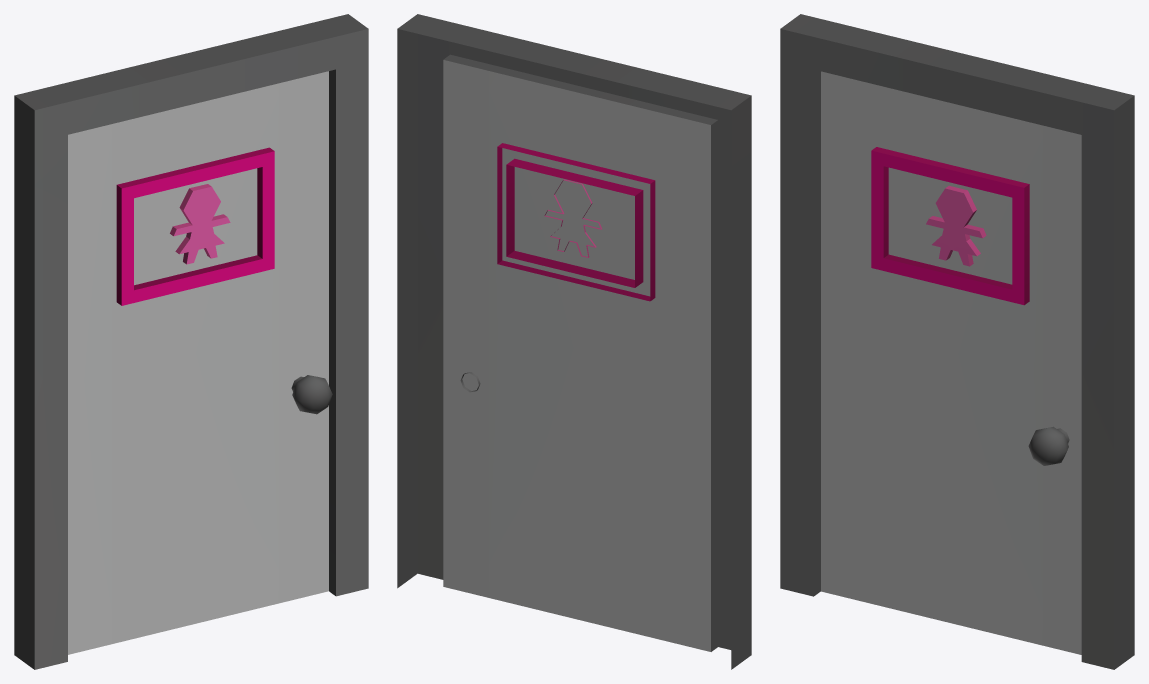
The model's file is PortaBanGirl.fbx.
3 views of the same model, side by side, from view 1: azimuth 30°, elevation 25°; view 2: azimuth 150°, elevation 25°; view 3: azimuth 330°, elevation 25° (orthographic).
Parts seen in each view (by area): view 1: BathroomDoorGirls; view 2: BathroomDoorGirls; view 3: BathroomDoorGirls.
Part boxes in pixels (bbox=[...]): BathroomDoorGirls: bbox=[14, 14, 368, 669]; BathroomDoorGirls: bbox=[397, 14, 751, 669]; BathroomDoorGirls: bbox=[780, 14, 1134, 669].
Bounding box in the file's own units: 88.6 × 142 × 15.52.
